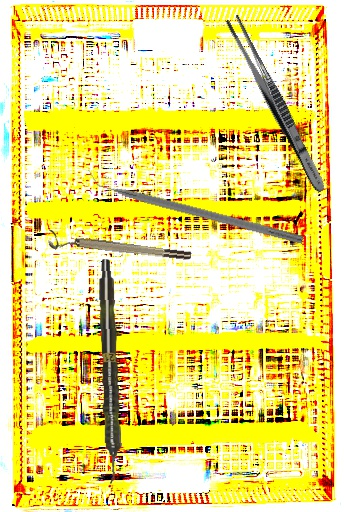Chopper: (83, 165, 308, 245)
Dressing Forceps: (222, 13, 331, 196)
Fixation Ring: (46, 229, 193, 269)
Handpiece: (96, 258, 123, 485)
